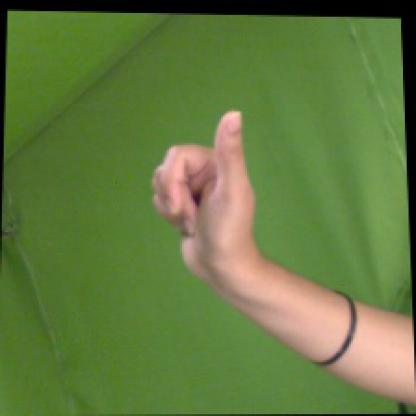Hand: (150, 111, 256, 283)
